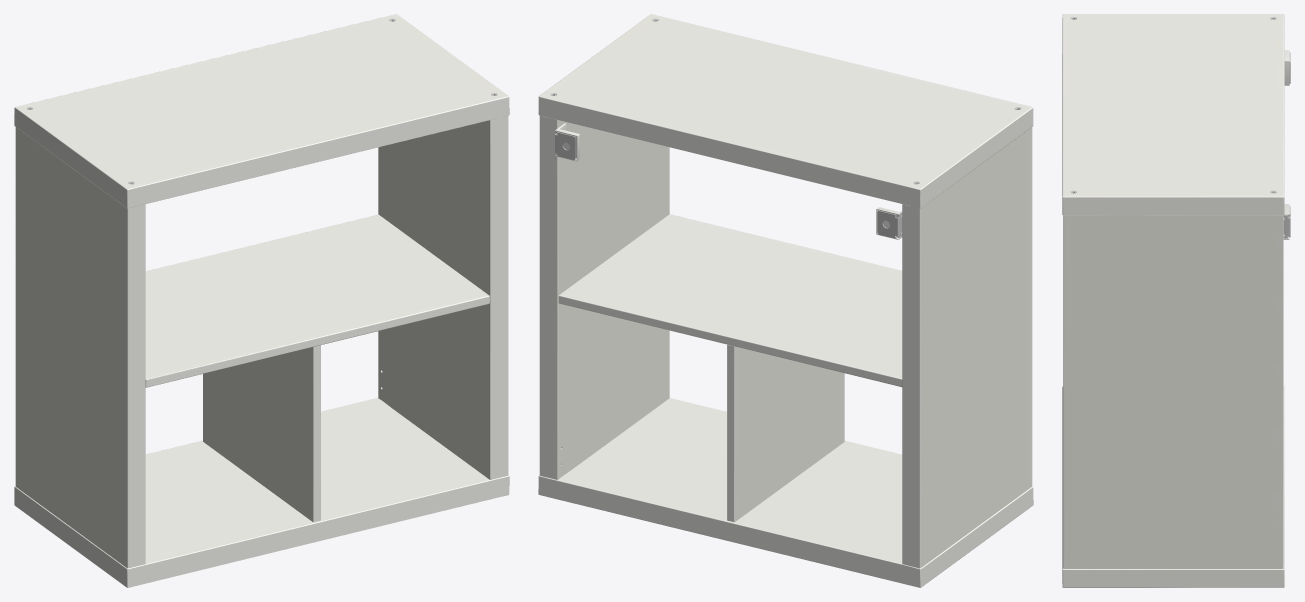
The model's file is KALLAX etag 77x77 open-top blanc.glb.
The picture shows the model from 3 angles, left to right: view 1: azimuth 30°, elevation 25°; view 2: azimuth 150°, elevation 25°; view 3: azimuth 270°, elevation 25°; orthographic projection.
Parts seen in each view (by area): view 1: model; view 2: model; view 3: model.
Part boxes in pixels (x1=…): model: x1=14, y1=14, x2=509, y2=587; model: x1=538, y1=14, x2=1033, y2=587; model: x1=1062, y1=14, x2=1290, y2=587.
Size of the model in its own units: 0.765 by 0.7655 by 0.4025.
Materials: 1 (1 with a texture image).
